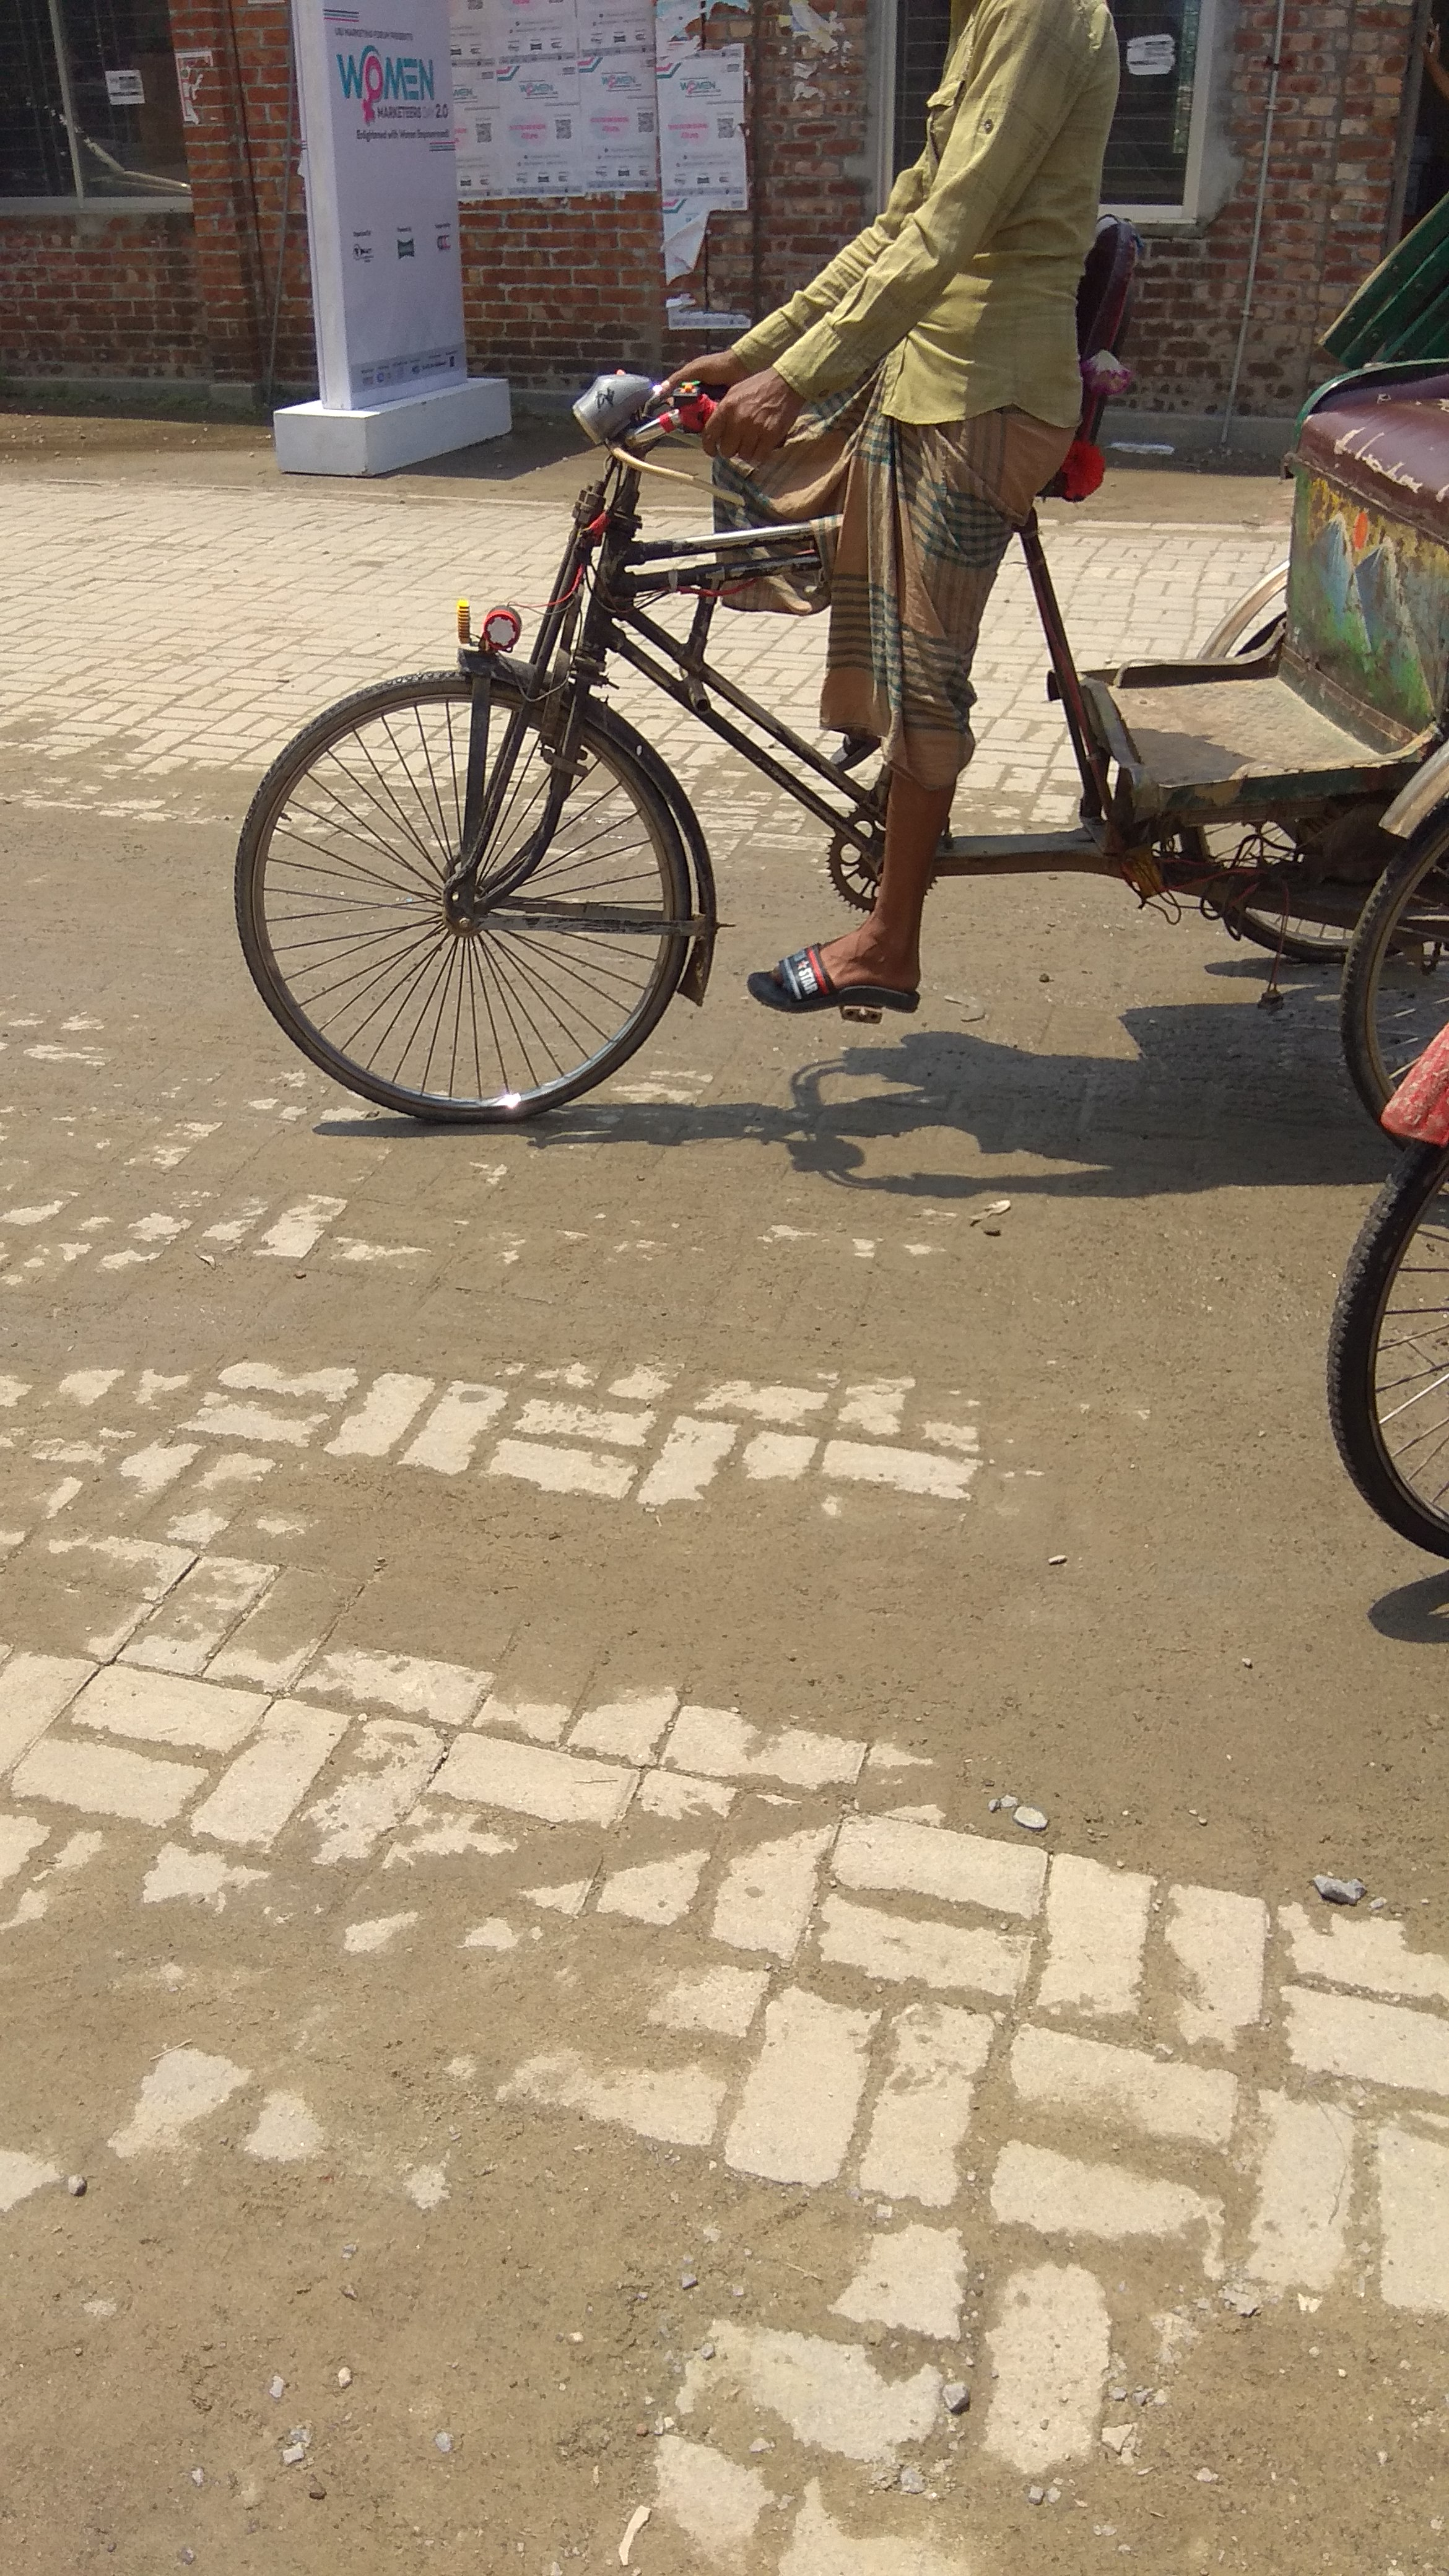Rickshaw: (207, 7, 1431, 1053)
